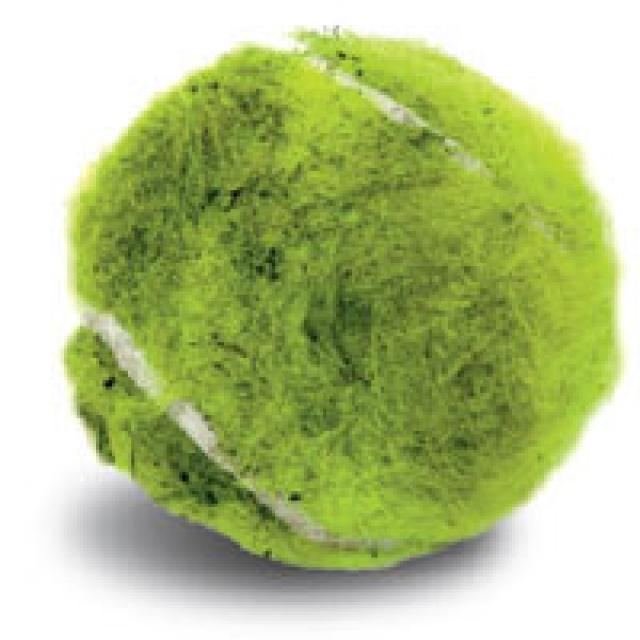Tennis Ball: (61, 29, 621, 577)
